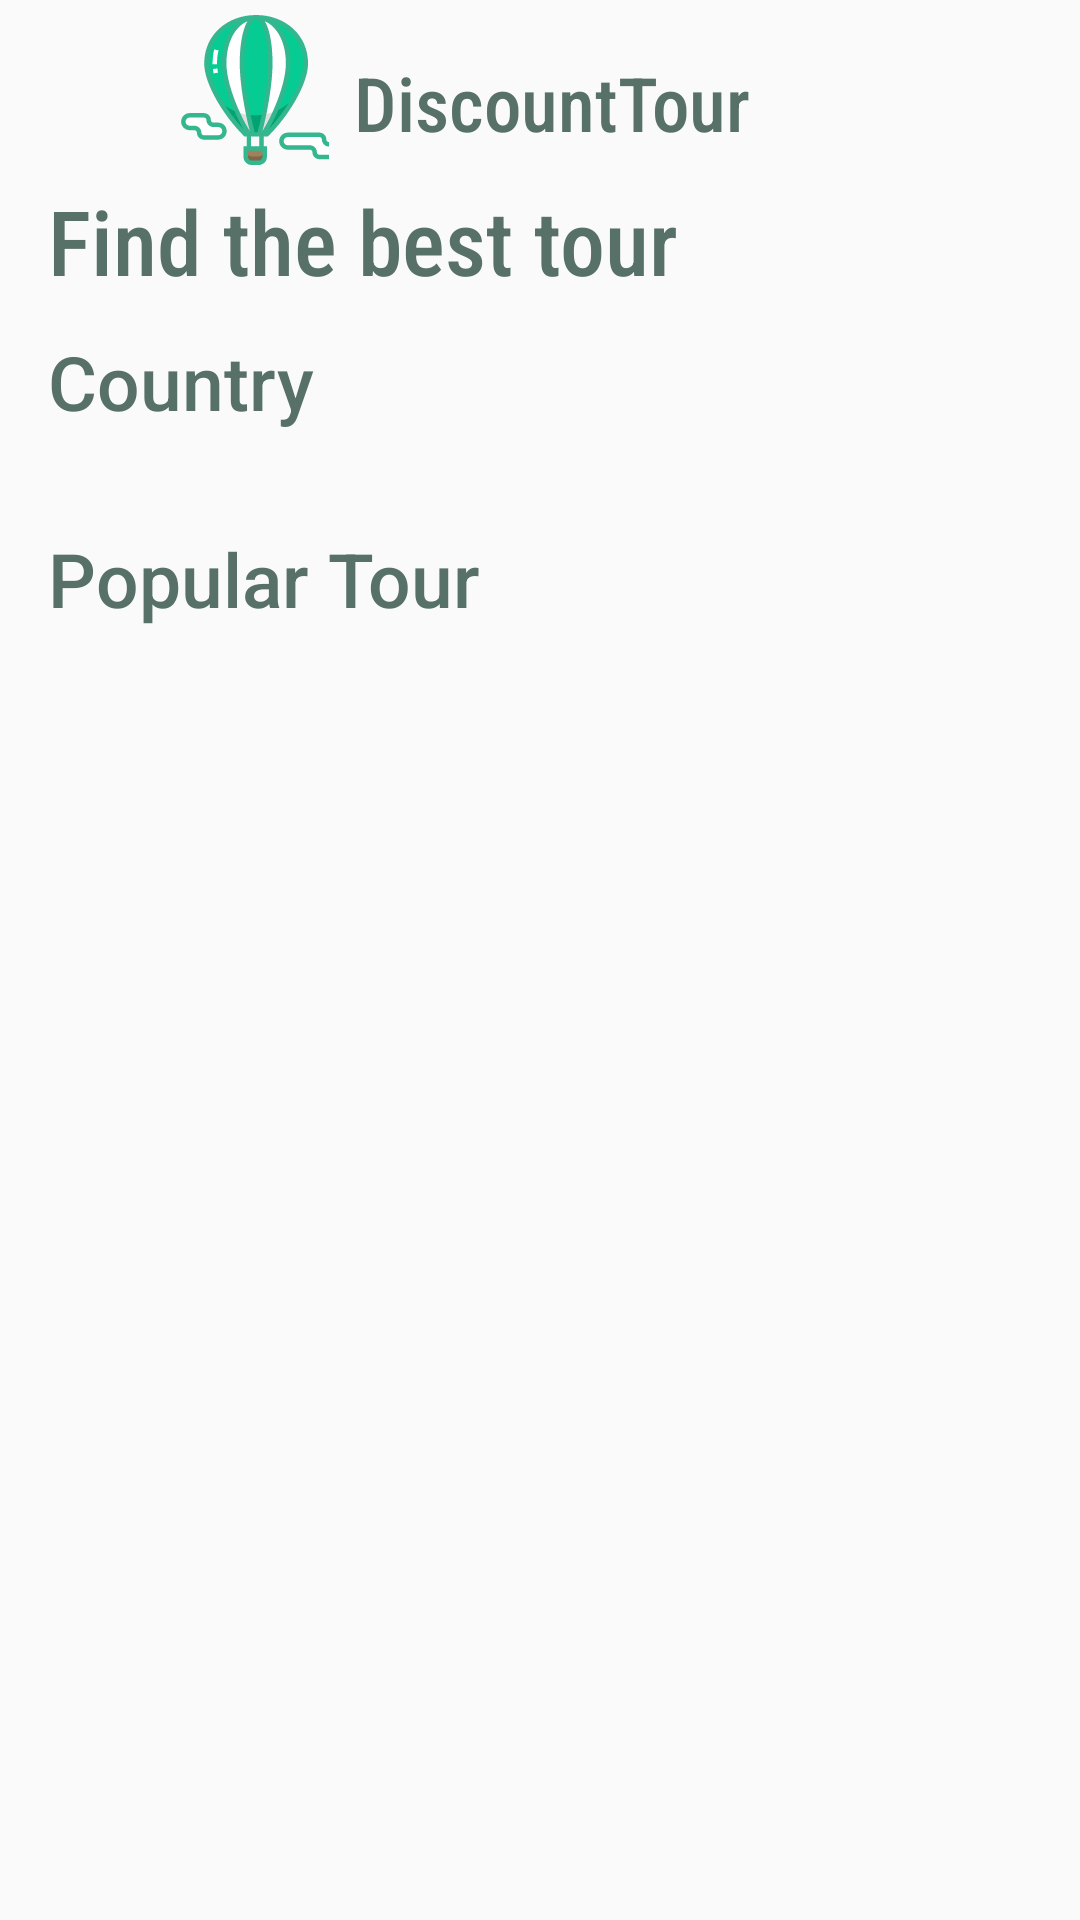

Where icons sit on this 1080px x 1920px app screen, as (x1, y1, x2, y2):
ballon: (181, 15, 329, 165)
